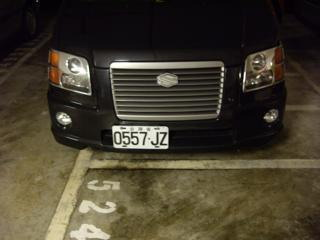plate: (110, 124, 170, 151)
